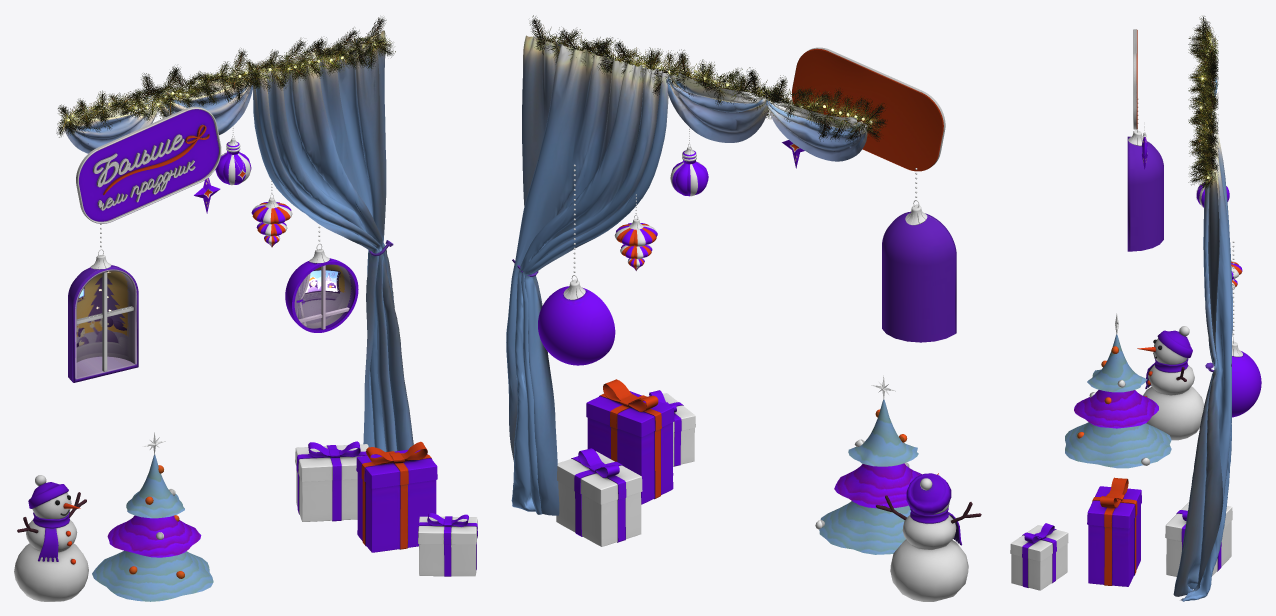
File: rtk2027_v10.glb
3 renders of one model, left to right at view 1: azimuth 30°, elevation 25°; view 2: azimuth 150°, elevation 25°; view 3: azimuth 270°, elevation 25°, orthographic. The views are drawn at different scales.
Visible parts, largest first — view 1: CS_RTK_001, Motto_plank, model_2.012, Cylinder.004, Plane.006, RTK_box_001.001, snowman, RTK_box_001.002, Circle.002, RTK_box_001.006, RTK_ball_003, RTK_ball_001 (+1 smaller); view 2: CS_RTK_001, Motto_plank, model_2.012, Plane.006, Cylinder.004, snowman, RTK_box_001.001, RTK_box_001.002, Circle.002, RTK_box_001.006, RTK_ball_003, RTK_ball_001; view 3: CS_RTK_001, Cylinder.004, RTK_box_001.001, snowman, model_2.012, Plane.006, RTK_box_001.006, RTK_box_001.002, Circle.002, Motto_plank.
Part boxes in pixels (bbox=[...]): CS_RTK_001: bbox=[63, 30, 413, 454]; Motto_plank: bbox=[76, 106, 221, 223]; model_2.012: bbox=[56, 17, 395, 137]; Cylinder.004: bbox=[92, 432, 213, 601]; Plane.006: bbox=[68, 265, 138, 382]; RTK_box_001.001: bbox=[356, 441, 437, 552]; snowman: bbox=[14, 475, 88, 601]; RTK_box_001.002: bbox=[295, 441, 368, 521]; Circle.002: bbox=[285, 258, 358, 332]; RTK_box_001.006: bbox=[418, 513, 477, 576]; RTK_ball_003: bbox=[251, 181, 292, 247]; RTK_ball_001: bbox=[215, 125, 251, 185]; CS_RTK_001: bbox=[506, 35, 867, 515]; Motto_plank: bbox=[792, 47, 945, 171]; model_2.012: bbox=[529, 15, 887, 143]; Plane.006: bbox=[882, 211, 956, 342]; Cylinder.004: bbox=[815, 375, 921, 554]; snowman: bbox=[876, 473, 981, 601]; RTK_box_001.001: bbox=[586, 379, 674, 504]; RTK_box_001.002: bbox=[556, 448, 642, 546]; Circle.002: bbox=[538, 286, 615, 365]; RTK_box_001.006: bbox=[649, 390, 695, 466]; RTK_ball_003: bbox=[614, 194, 657, 270]; RTK_ball_001: bbox=[670, 128, 708, 196]; CS_RTK_001: bbox=[1173, 36, 1232, 601]; Cylinder.004: bbox=[1065, 313, 1171, 468]; RTK_box_001.001: bbox=[1087, 477, 1141, 586]; snowman: bbox=[1137, 326, 1204, 440]; model_2.012: bbox=[1188, 16, 1218, 190]; Plane.006: bbox=[1127, 136, 1163, 251]; RTK_box_001.006: bbox=[1010, 523, 1068, 590]; RTK_box_001.002: bbox=[1165, 502, 1232, 576]; Circle.002: bbox=[1232, 351, 1261, 417]; Motto_plank: bbox=[1133, 29, 1137, 129].
Bounding box in the file's own units: 2.96 × 3.21 × 1.66.
Materials: 17 (11 with a texture image).
